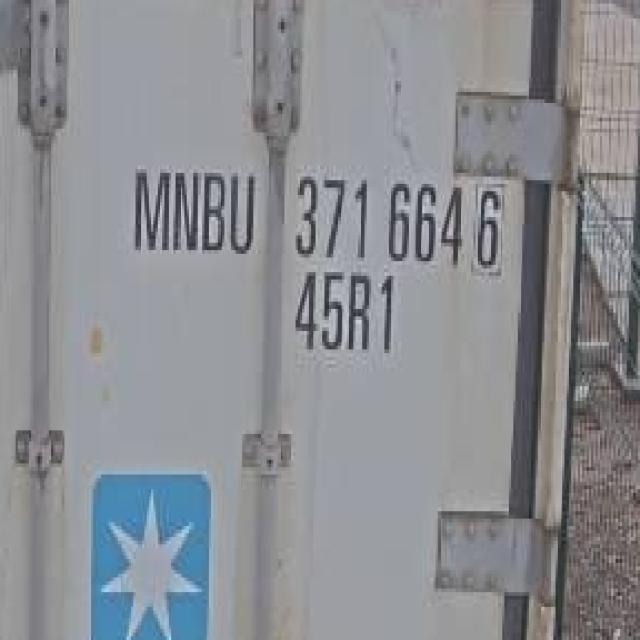dv: (472, 177, 505, 280)
owner: (128, 148, 260, 270)
serial: (288, 163, 467, 271)
size: (289, 267, 407, 366)
